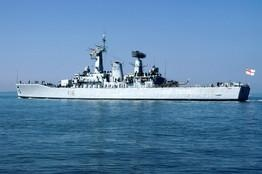warship: (14, 32, 257, 102)
